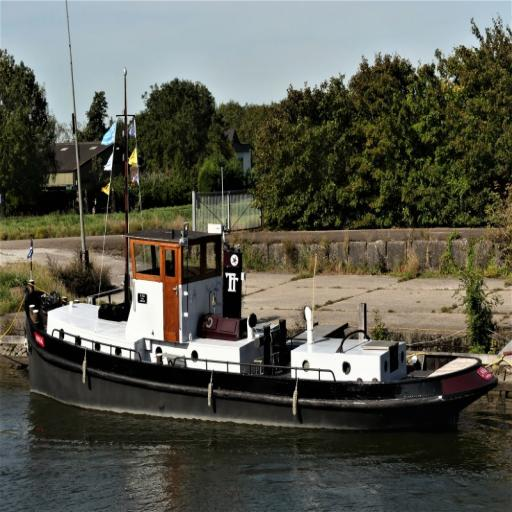tugboat: (24, 213, 502, 445)
